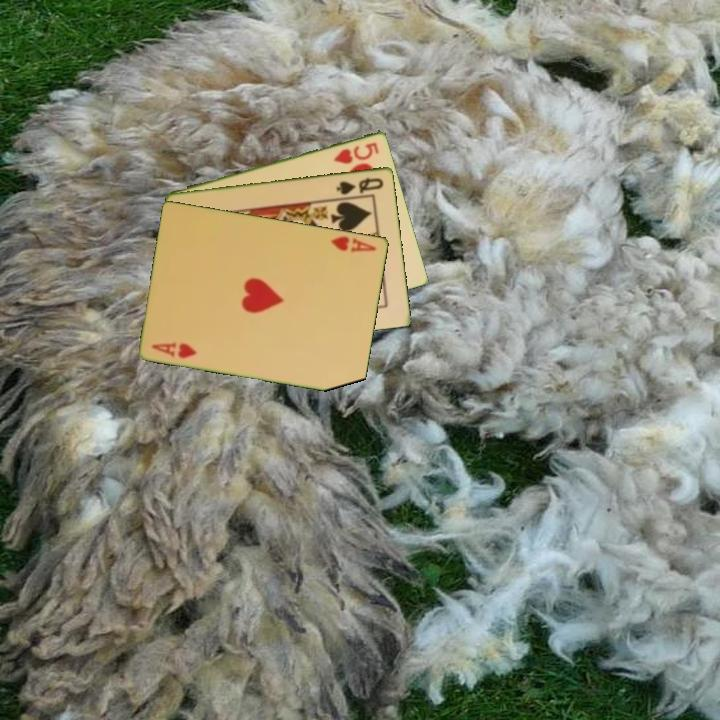5h: (331, 138, 382, 166)
Ah: (327, 232, 379, 255), (148, 338, 199, 361)
Qs: (333, 174, 386, 197)
